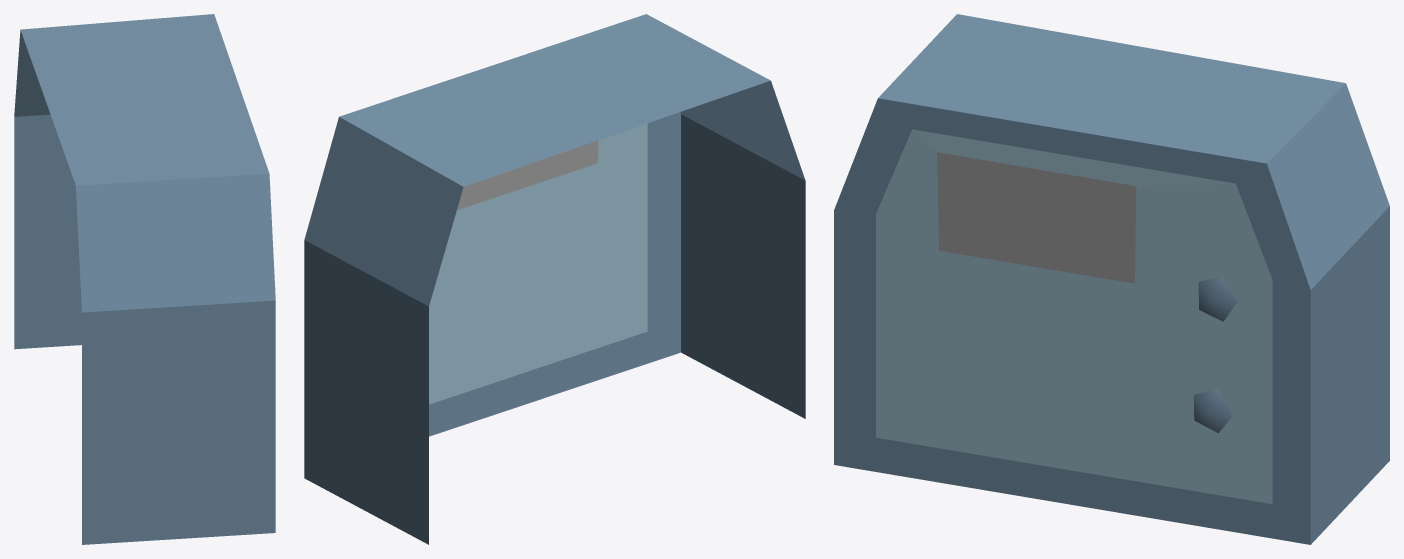
The model's file is MSH_QuestObject_safe_01.fbx.
3 renders of one model, left to right at view 1: azimuth 30°, elevation 25°; view 2: azimuth 150°, elevation 25°; view 3: azimuth 270°, elevation 25°, orthographic. The views are drawn at different scales.
Parts seen in each view (by area): view 1: MSH_QuestObject_safe_01; view 2: MSH_QuestObject_safe_01; view 3: MSH_QuestObject_safe_01.
Part boxes in pixels (box(x1,y1,x2,y2)): MSH_QuestObject_safe_01: box(14, 14, 275, 544); MSH_QuestObject_safe_01: box(304, 14, 805, 544); MSH_QuestObject_safe_01: box(834, 14, 1389, 544).
Bounding box in the file's own units: 0.6148 × 0.6525 × 0.8789.
